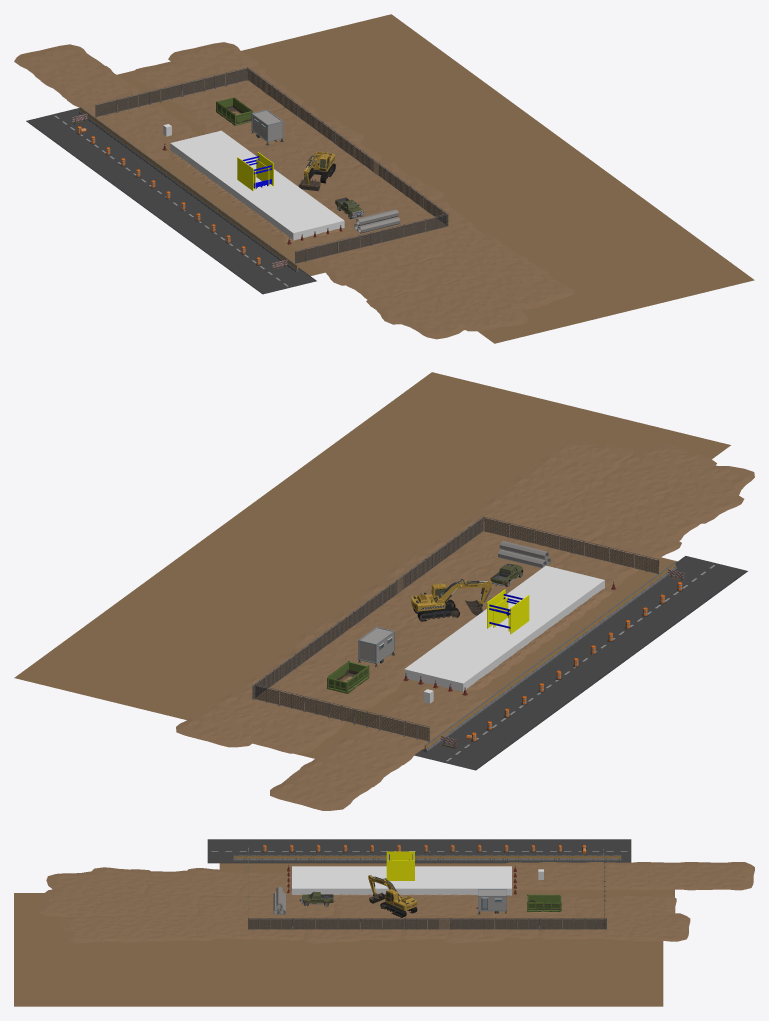
The model's file is ExcavationScene.glb.
3 views of the same model, one above another, from view 1: azimuth 30°, elevation 25°; view 2: azimuth 150°, elevation 25°; view 3: azimuth 270°, elevation 25° (orthographic). The views are drawn at different scales.
Visible parts, largest first — view 1: COL_Flat_Plane_02_WORKSITE, COL_SM_Env_Dirt_Square_04_WORKSITE, COL_SM_Env_Dirt_Square_01_WORKSITE, COL_SM_Env_Dirt_Square_02_WORKSITE, COL_SM_Env_Dirt_Square_03_WORKSITE, COL_Trench_Barrier_WORKSITE, COL_SM_Env_Road_01_WORKSITE, COL_Road_WORKSITE, COL_SM_Prop_Fence_Wire_02_WORKSITE, COL_SM_Prop_Fence_Wire_01_WORKSITE, COL_Flat_Plane_WORKSITE, COL_SM_Prop_Fence_Wire_03_WORKSITE (+6 smaller); view 2: COL_Flat_Plane_02_WORKSITE, COL_SM_Env_Dirt_Square_04_WORKSITE, COL_SM_Env_Dirt_Square_01_WORKSITE, COL_SM_Env_Dirt_Square_02_WORKSITE, COL_SM_Env_Dirt_Square_03_WORKSITE, COL_Trench_Barrier_WORKSITE, COL_SM_Env_Road_01_WORKSITE, COL_Road_WORKSITE, COL_SM_Prop_Fence_Wire_02_WORKSITE, COL_SM_Prop_Fence_Wire_01_WORKSITE, COL_SM_Prop_Fence_Wire_03_WORKSITE, COL_SM_Prop_Barrier_Long_01_WORKSITE (+7 smaller); view 3: COL_Flat_Plane_02_WORKSITE, COL_SM_Env_Dirt_Square_04_WORKSITE, COL_SM_Env_Dirt_Square_01_WORKSITE, COL_SM_Env_Dirt_Square_02_WORKSITE, COL_SM_Env_Dirt_Square_03_WORKSITE, COL_Trench_Barrier_WORKSITE, COL_SM_Env_Road_01_WORKSITE, COL_SM_Prop_Fence_Wire_02_WORKSITE, COL_Road_WORKSITE, COL_SM_Prop_Barrier_Long_01_WORKSITE, COL_Flat_Plane_WORKSITE, Big_Shield (+6 smaller).
Boxes of the visible parts, box(x1,y1,x2,y2) form: COL_Flat_Plane_02_WORKSITE: box(131, 14, 754, 343); COL_SM_Env_Dirt_Square_04_WORKSITE: box(168, 42, 574, 309); COL_SM_Env_Dirt_Square_01_WORKSITE: box(130, 61, 529, 331); COL_SM_Env_Dirt_Square_02_WORKSITE: box(14, 44, 199, 159); COL_SM_Env_Dirt_Square_03_WORKSITE: box(290, 230, 475, 339); COL_Trench_Barrier_WORKSITE: box(170, 130, 344, 240); COL_SM_Env_Road_01_WORKSITE: box(26, 114, 289, 294); COL_Road_WORKSITE: box(53, 108, 316, 287); COL_SM_Prop_Fence_Wire_02_WORKSITE: box(247, 67, 448, 226); COL_SM_Prop_Fence_Wire_01_WORKSITE: box(95, 67, 247, 117); COL_Flat_Plane_WORKSITE: box(154, 158, 320, 272); COL_SM_Prop_Fence_Wire_03_WORKSITE: box(295, 214, 447, 263); COL_Flat_Plane_02_WORKSITE: box(14, 372, 730, 750); COL_SM_Env_Dirt_Square_04_WORKSITE: box(176, 440, 632, 747); COL_SM_Env_Dirt_Square_01_WORKSITE: box(245, 443, 716, 753); COL_SM_Env_Dirt_Square_02_WORKSITE: box(270, 682, 493, 810); COL_SM_Env_Dirt_Square_03_WORKSITE: box(552, 464, 754, 589); COL_Trench_Barrier_WORKSITE: box(404, 565, 604, 691); COL_SM_Env_Road_01_WORKSITE: box(445, 563, 747, 770); COL_Road_WORKSITE: box(414, 556, 716, 762); COL_SM_Prop_Fence_Wire_02_WORKSITE: box(252, 516, 483, 699); COL_SM_Prop_Fence_Wire_01_WORKSITE: box(254, 684, 429, 742); COL_SM_Prop_Fence_Wire_03_WORKSITE: box(484, 516, 659, 573); COL_SM_Prop_Barrier_Long_01_WORKSITE: box(423, 562, 676, 752); COL_Flat_Plane_02_WORKSITE: box(14, 893, 663, 1006); COL_SM_Env_Dirt_Square_04_WORKSITE: box(60, 912, 690, 943); COL_SM_Env_Dirt_Square_01_WORKSITE: box(37, 889, 676, 920); COL_SM_Env_Dirt_Square_02_WORKSITE: box(500, 862, 754, 890); COL_SM_Env_Dirt_Square_03_WORKSITE: box(46, 867, 291, 896); COL_Trench_Barrier_WORKSITE: box(292, 866, 511, 895); COL_SM_Env_Road_01_WORKSITE: box(207, 839, 631, 851); COL_SM_Prop_Fence_Wire_02_WORKSITE: box(248, 918, 606, 930); COL_Road_WORKSITE: box(207, 851, 631, 863); COL_SM_Prop_Barrier_Long_01_WORKSITE: box(233, 855, 621, 861); COL_Flat_Plane_WORKSITE: box(227, 863, 503, 871); Big_Shield: box(386, 851, 414, 880).
Size of the model in its own units: 70.11 by 11.45 by 131.
Materials: 56 (36 with a texture image).
